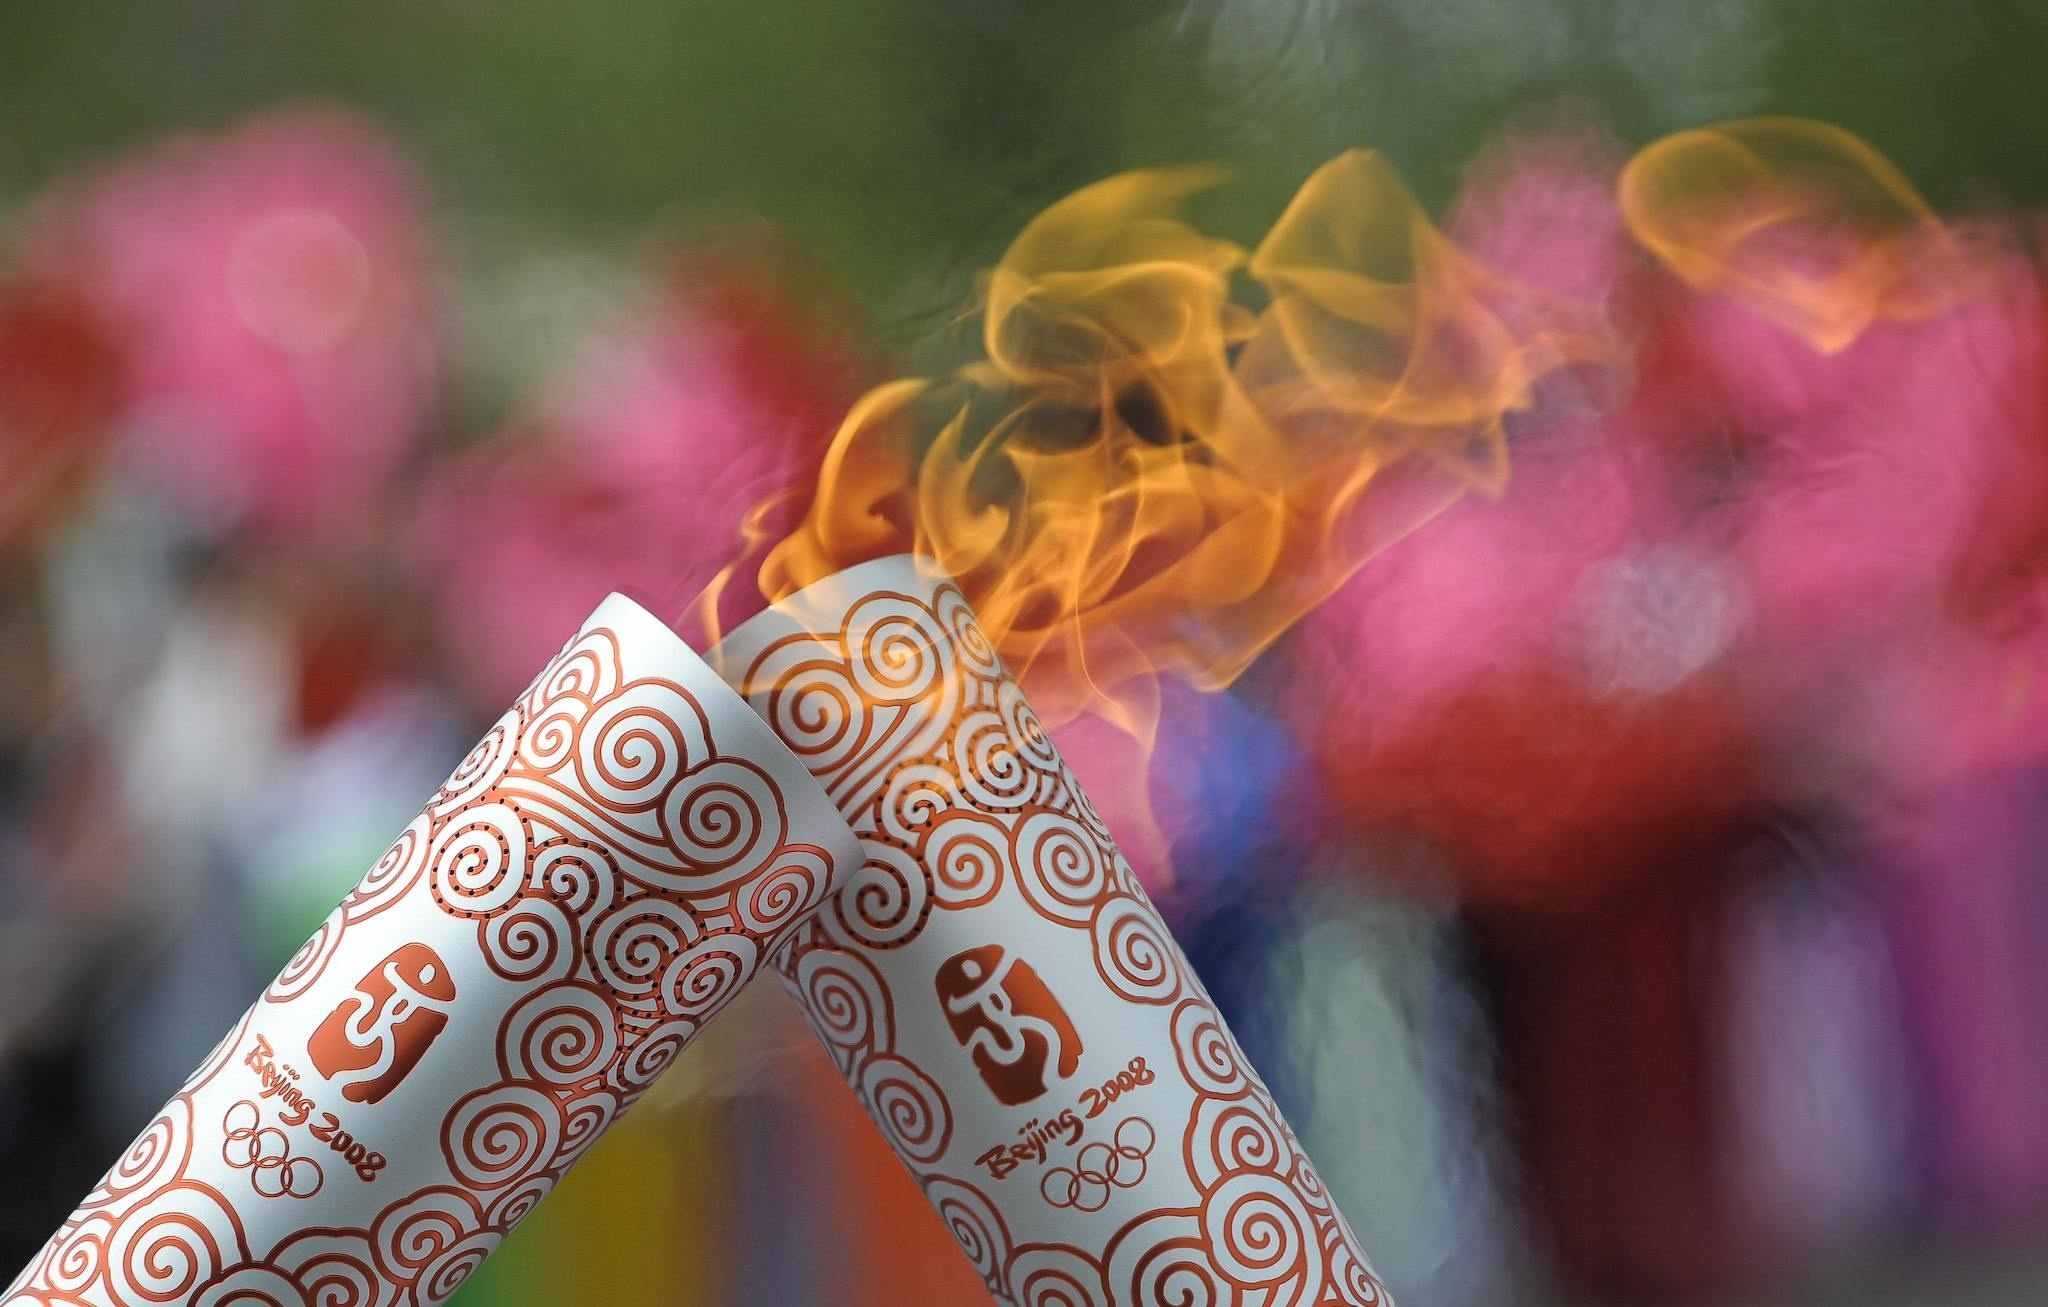fire: (682, 122, 1973, 745)
